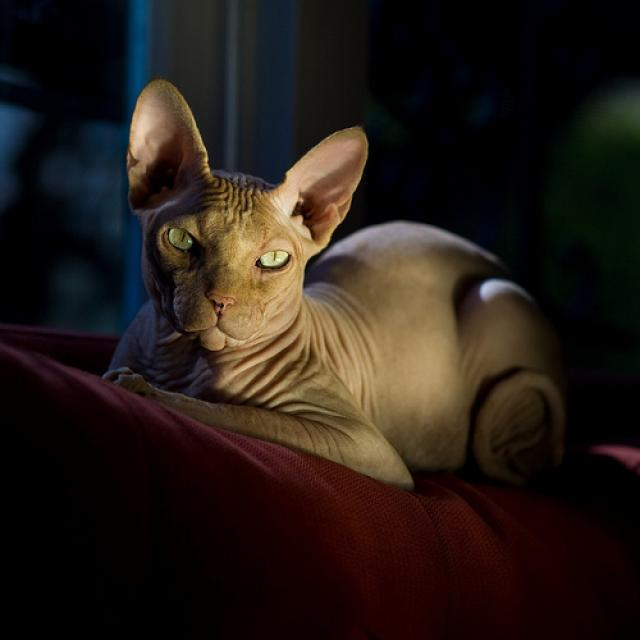cat: (126, 77, 366, 349)
